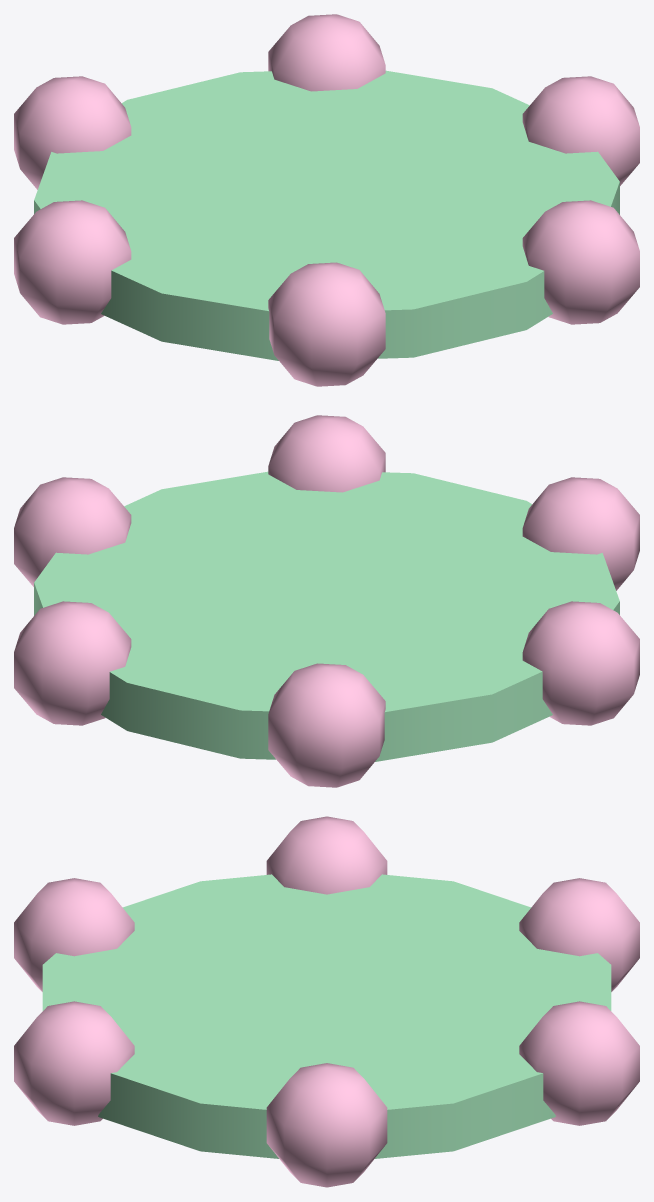
Rendered from hat_flower.glb.
3 views of the same model, one above another, from view 1: azimuth 30°, elevation 25°; view 2: azimuth 150°, elevation 25°; view 3: azimuth 270°, elevation 25° (orthographic).
Visible parts, largest first — view 1: hat_flower; view 2: hat_flower; view 3: hat_flower.
Boxes of the visible parts, bbox=[...] form: hat_flower: bbox=[14, 14, 639, 386]; hat_flower: bbox=[14, 415, 639, 787]; hat_flower: bbox=[14, 816, 639, 1187].
Bounding box in the file's own units: 33.31 × 6 × 29.61.
